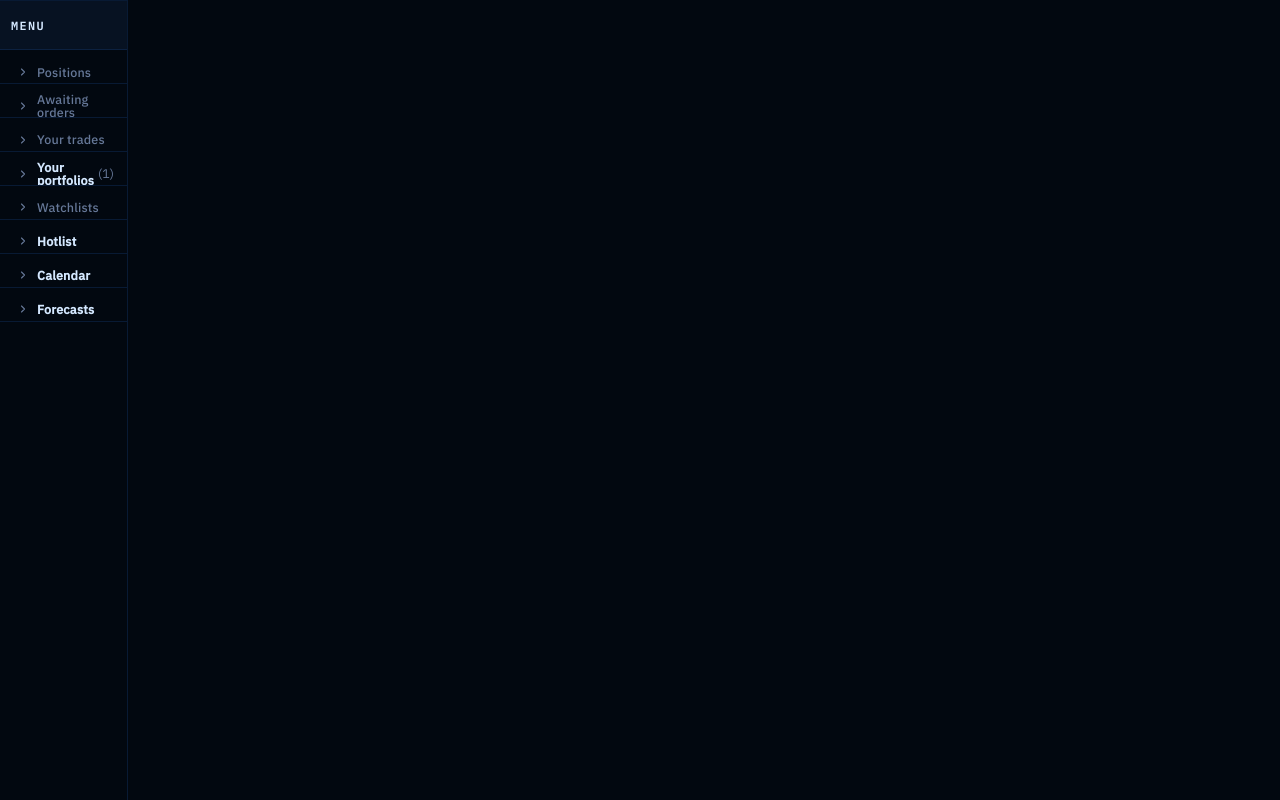
Test: FloorLists › renders a holding weight as a percentage
Click the button "Your portfolios (1)": [68, 174] box left=5, top=157, right=132, bottom=190
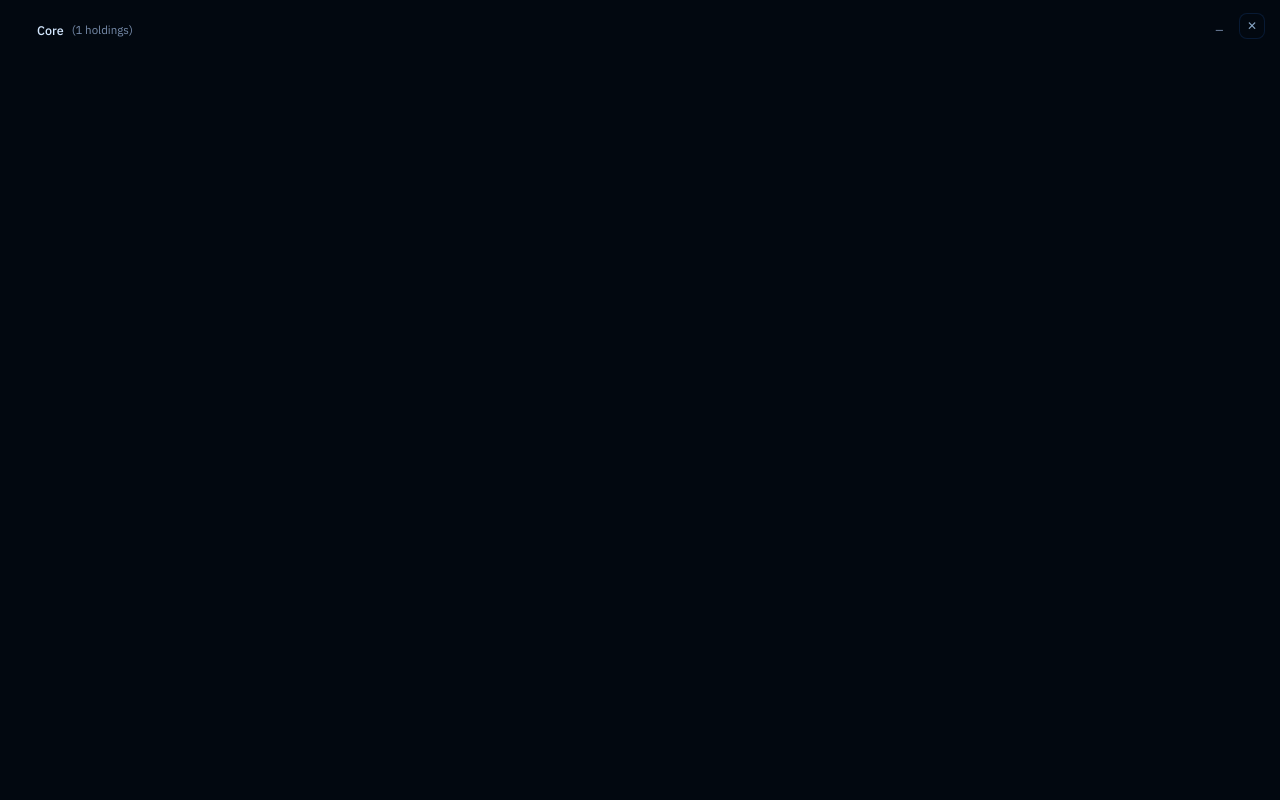
Click the button "Core (1 holdings) —": [108, 29] box left=25, top=15, right=1241, bottom=45
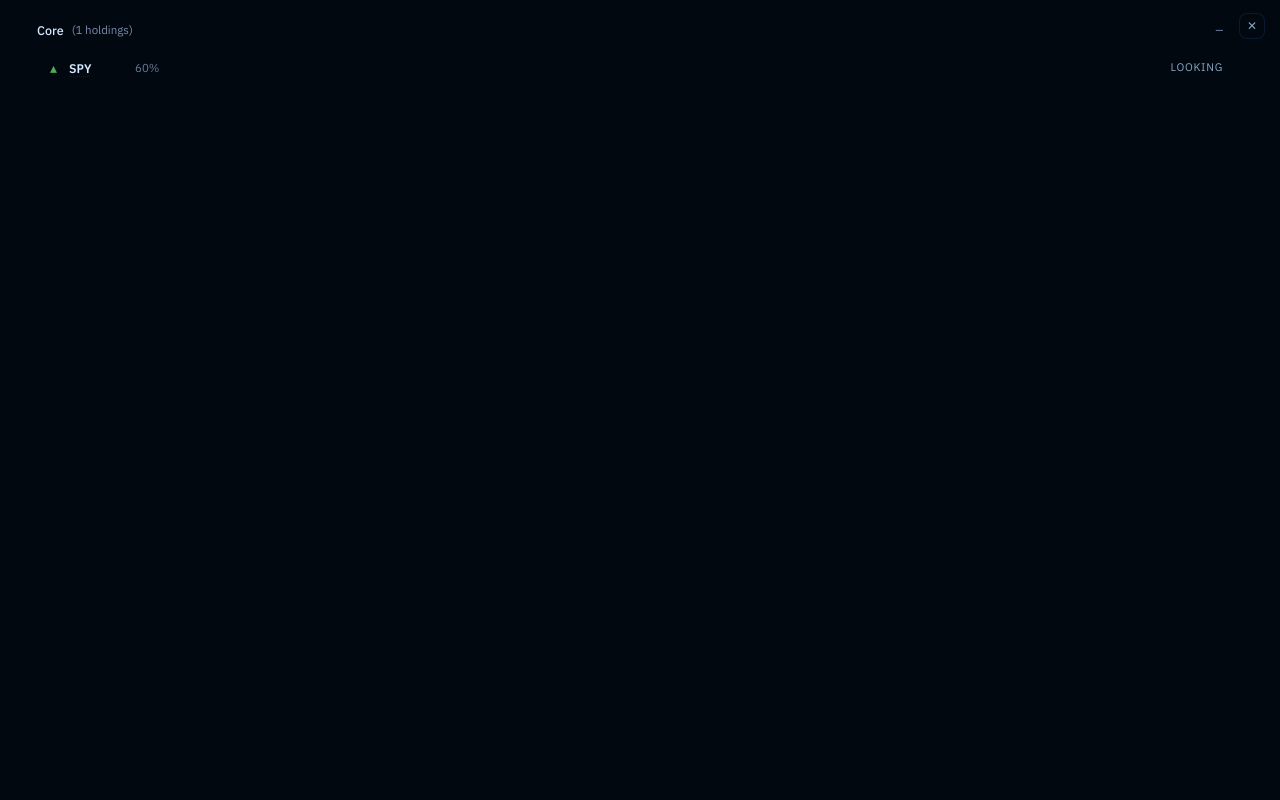
Now the text "60%" is shown, box left=135, top=60, right=160, bottom=75
